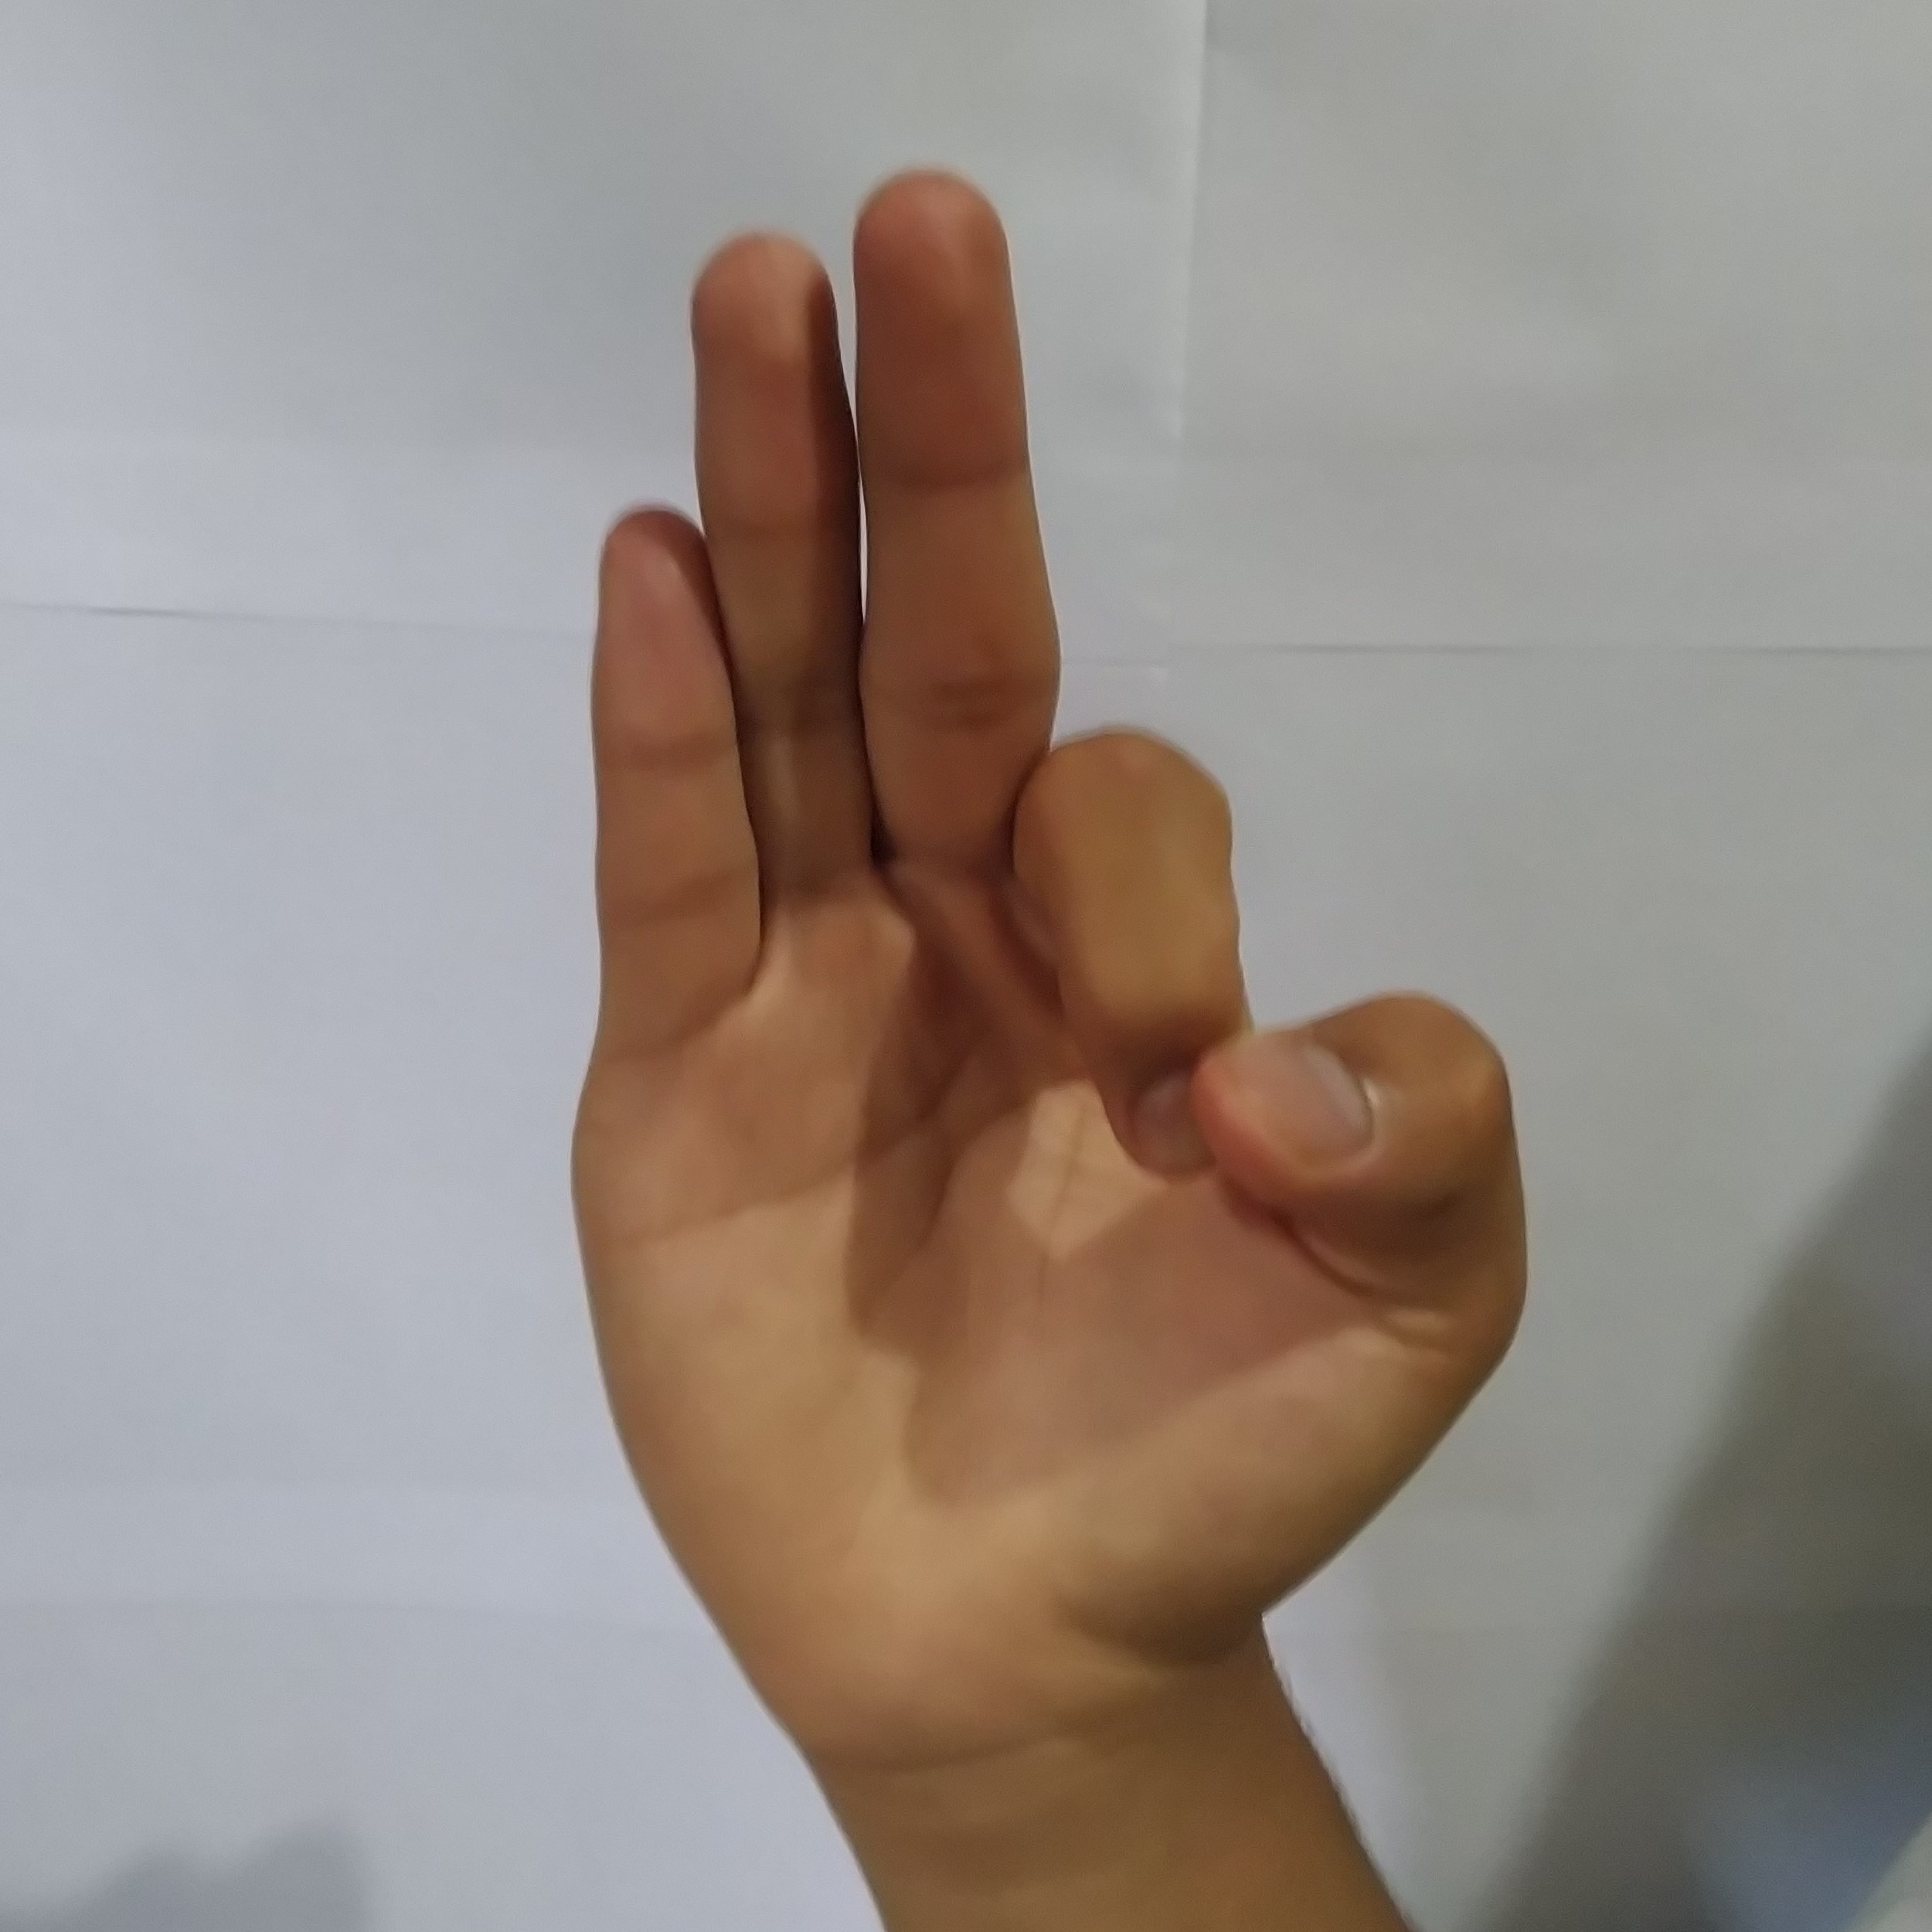F: (550, 145, 1560, 1656)
